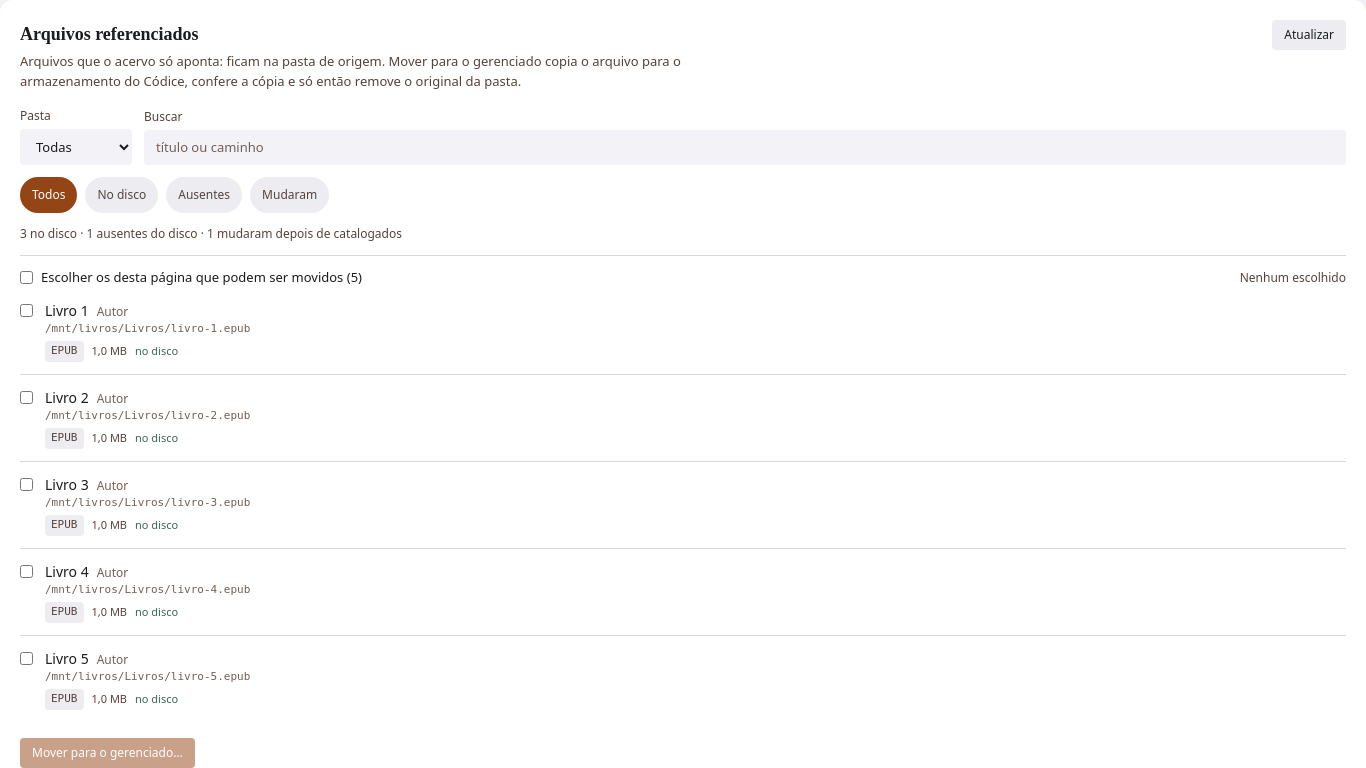
ReferencedFiles: moving to the managed storage › asks for exactly the files chosen, shows how each ends, and clears the choice
This screenshot has width=1366, height=768.
Click the checkbox named "Escolher os arquivos desta página". click: (26, 278)
box: left=20, top=271, right=33, bottom=284
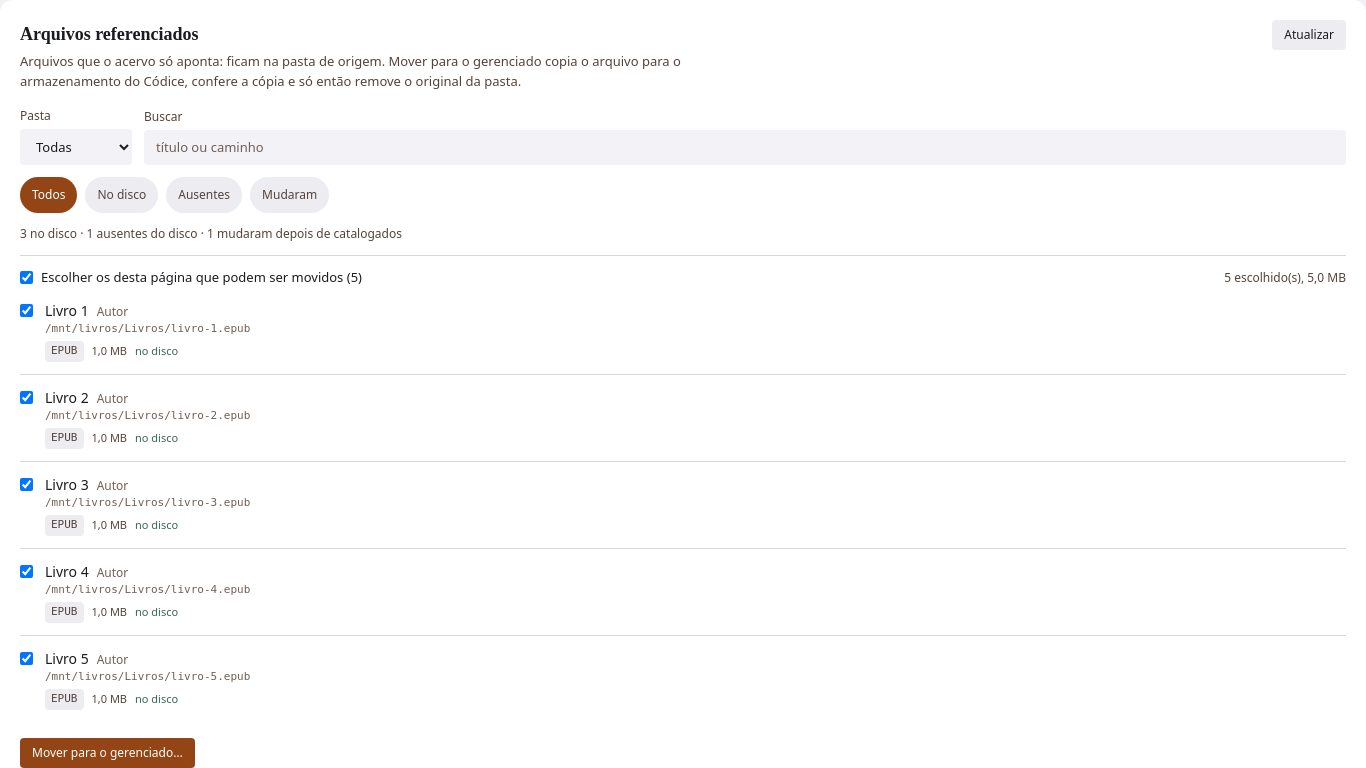
Click the button "Mover para o gerenciado…". click: (107, 752)
box: left=20, top=738, right=195, bottom=767
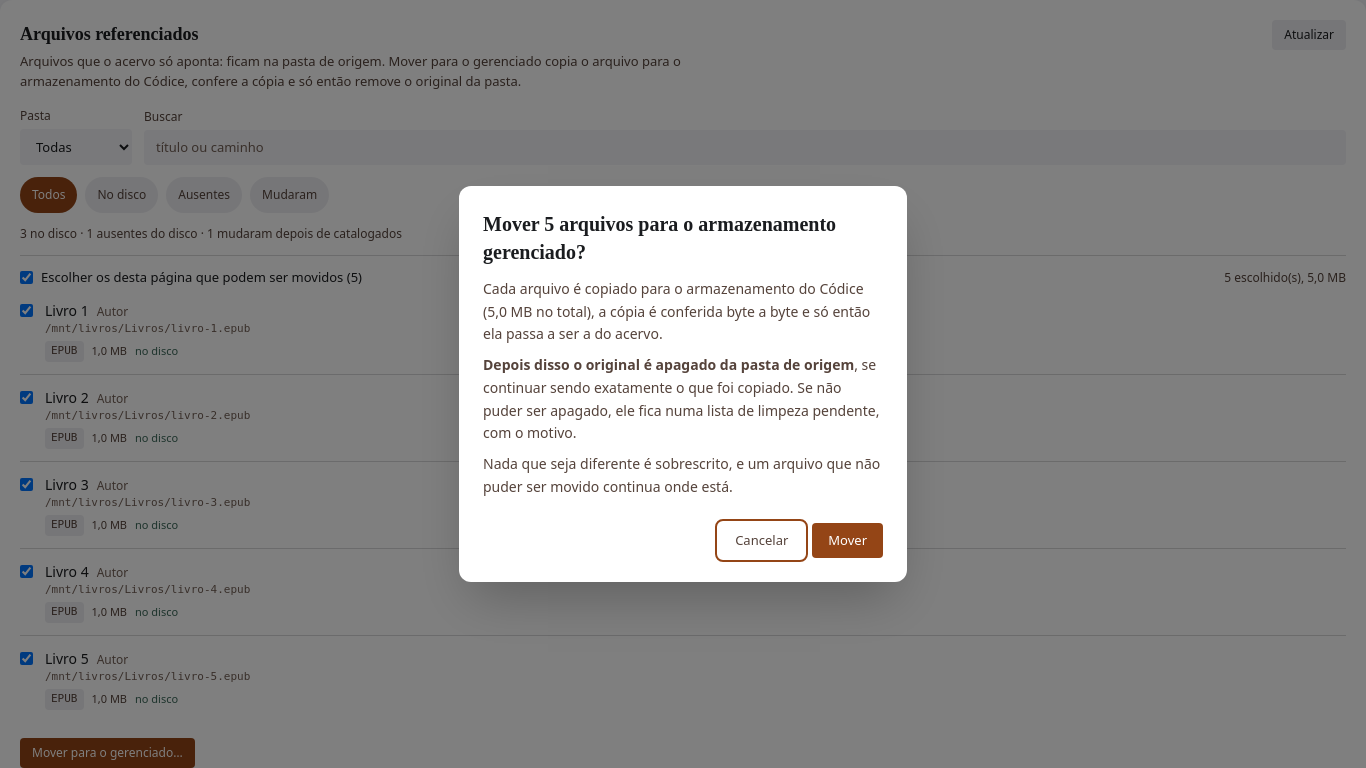
Click the button "Mover". click: (848, 540)
box: left=812, top=523, right=883, bottom=558
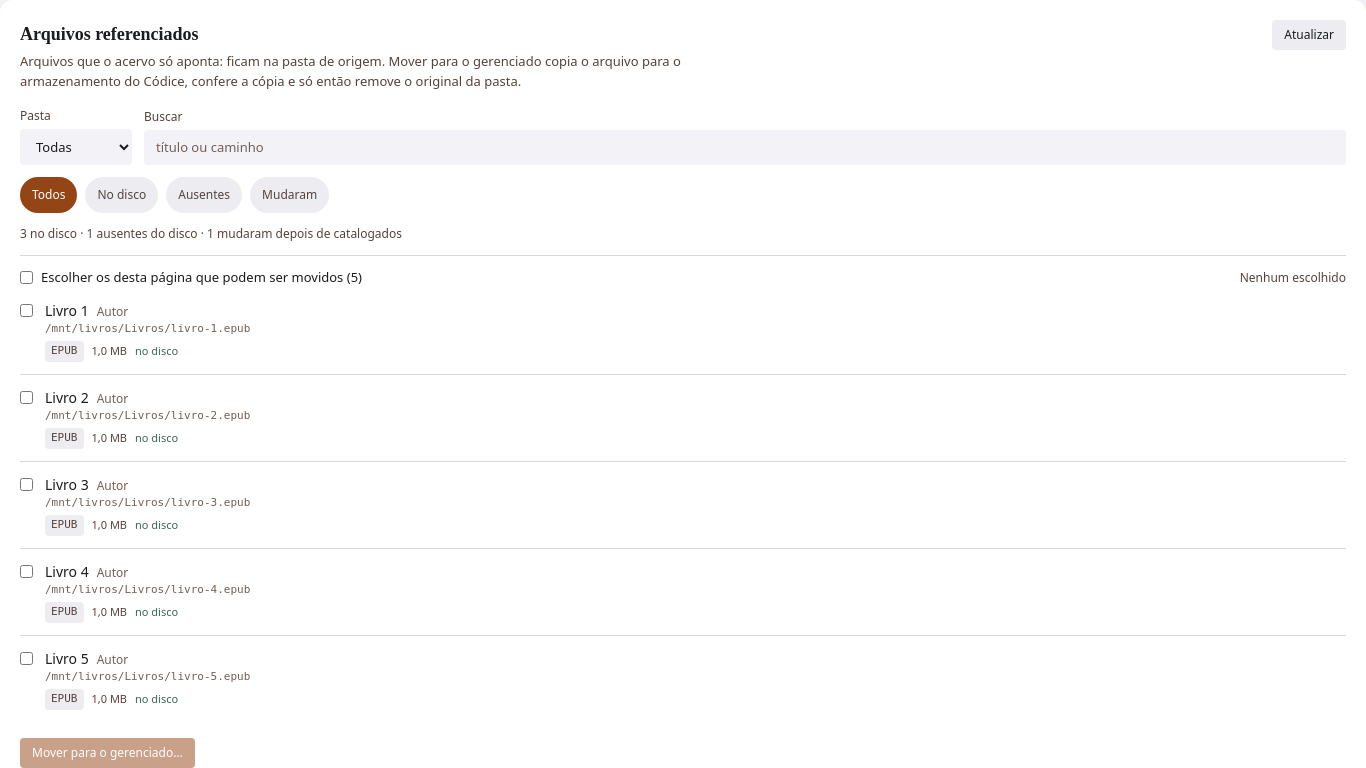
Expected: the button "Mover para o gerenciado…" is disabled, left=20, top=738, right=195, bottom=767
